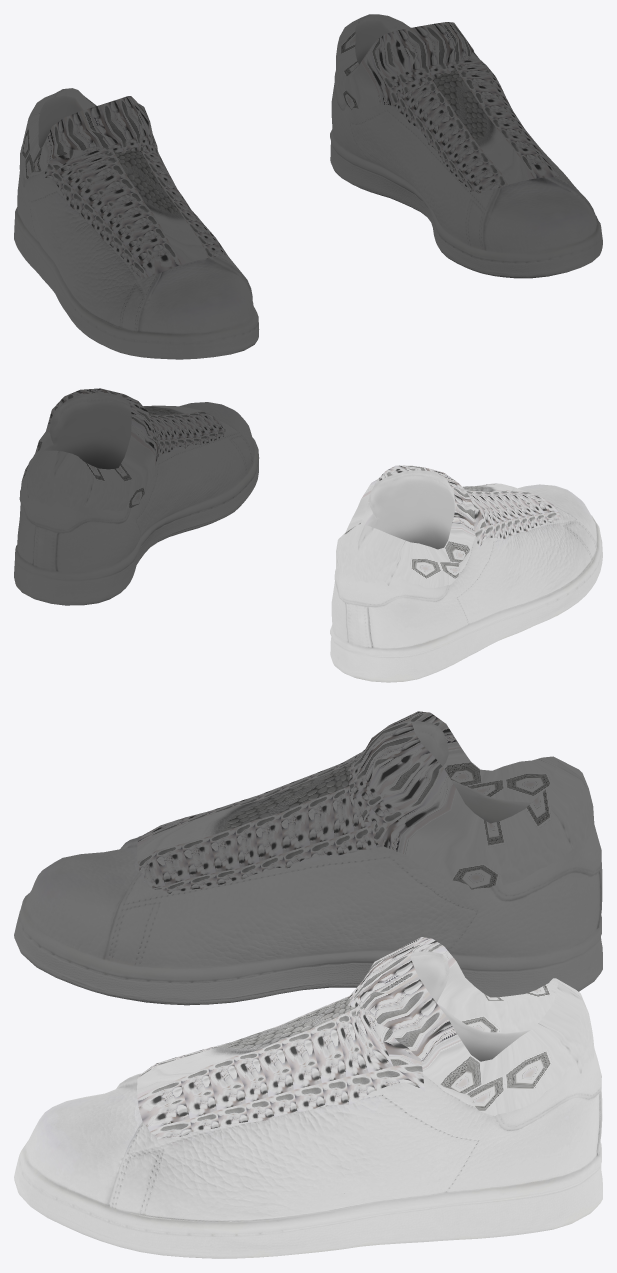
Rendered from male_kid_shoes.gltf.
3 views of the same model, one above another, from view 1: azimuth 30°, elevation 25°; view 2: azimuth 150°, elevation 25°; view 3: azimuth 270°, elevation 25° (orthographic). The views are drawn at different scales.
Parts seen in each view (by area): view 1: male_kid_shoes; view 2: male_kid_shoes; view 3: male_kid_shoes.
Part boxes in pixels (x1,y1,x2,y2): male_kid_shoes: (14, 14, 602, 359); male_kid_shoes: (14, 388, 602, 682); male_kid_shoes: (14, 711, 602, 1258).
Bounding box in the file's own units: 32.52 × 10.71 × 22.77.
Materials: 1 (1 with a texture image).
